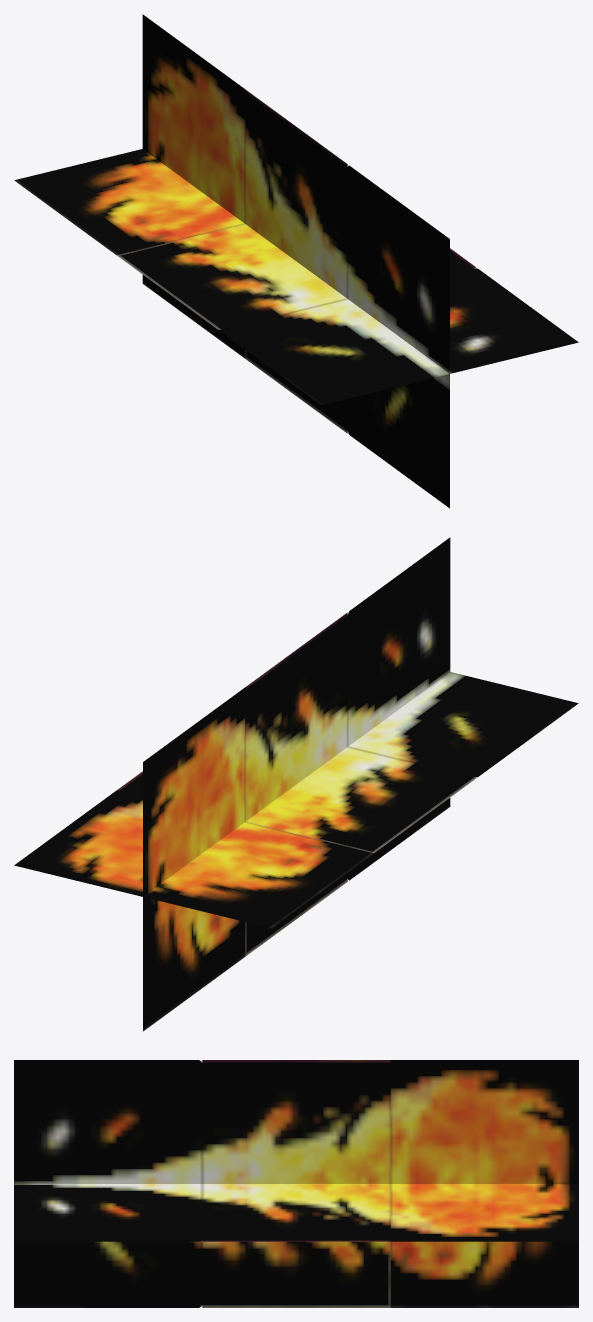
The picture shows the model from 3 angles, top to bottom: view 1: azimuth 30°, elevation 25°; view 2: azimuth 150°, elevation 25°; view 3: azimuth 270°, elevation 25°; orthographic projection. The views are drawn at different scales.
Parts seen in each view (by area): view 1: T1L4M001_27; view 2: T1L4M001_27; view 3: T1L4M001_27.
Part boxes in pixels (x1,y1,x2,y2): T1L4M001_27: [14, 14, 578, 508]; T1L4M001_27: [14, 537, 578, 1031]; T1L4M001_27: [14, 1060, 578, 1307].
Size of the model in its own units: 1.71 by 1.71 by 3.54.
